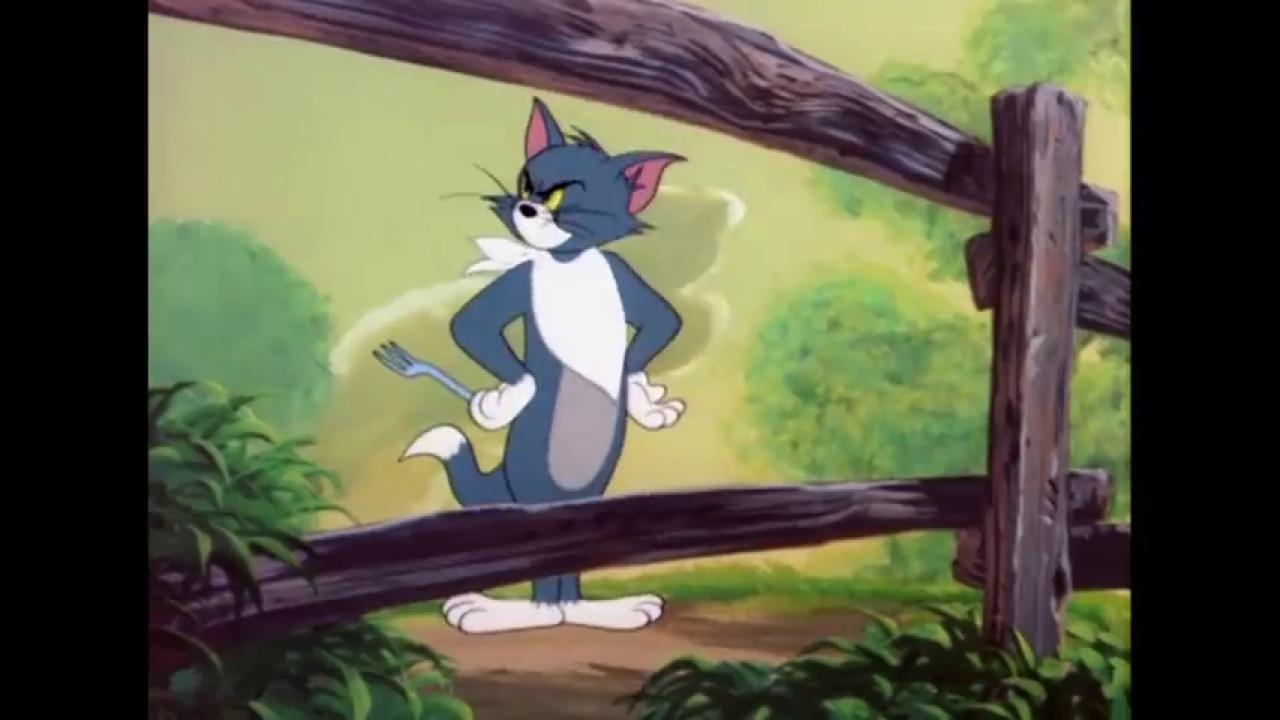Tom: (396, 93, 688, 635)
